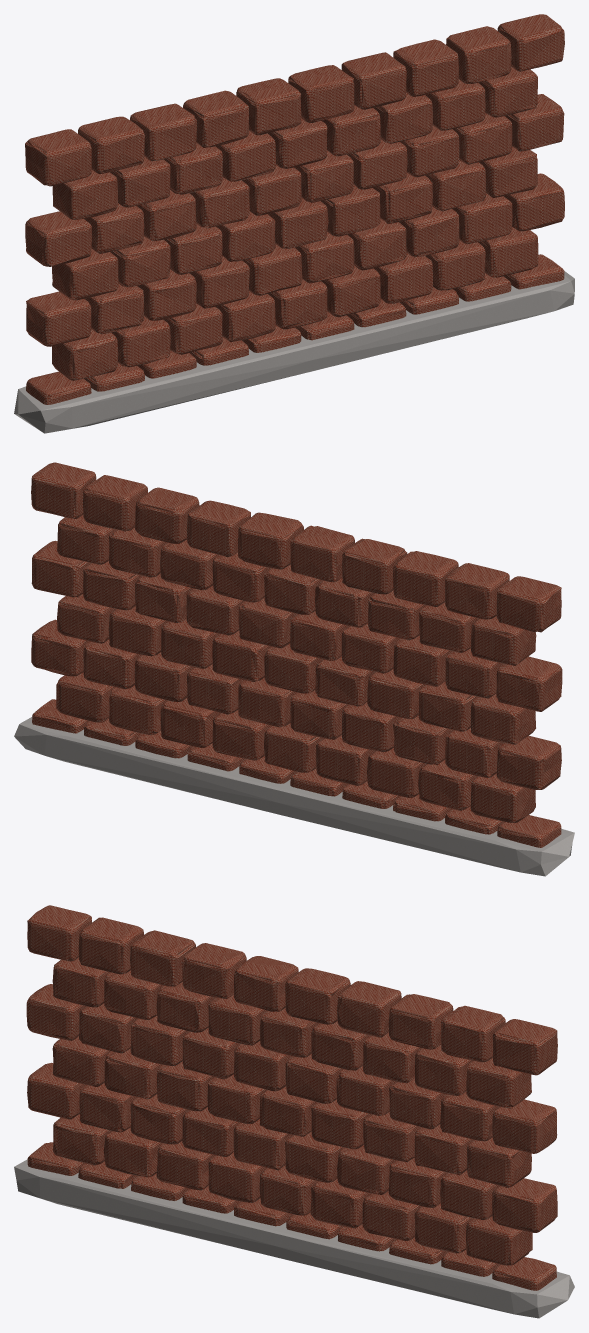
Rendered from brick_wall.glb.
The picture shows the model from 3 angles, top to bottom: view 1: azimuth 30°, elevation 25°; view 2: azimuth 150°, elevation 25°; view 3: azimuth 330°, elevation 25°; orthographic projection.
Visible parts, largest first — view 1: wall_footing, brick_057, brick_038, brick_019, brick_062, brick_058, brick_065, brick_066, brick_059, brick_064, brick_061, brick_060 (+56 smaller); view 2: wall_footing, brick_057, brick_038, brick_019, brick_062, brick_066, brick_058, brick_065, brick_064, brick_059, brick_061, brick_060 (+56 smaller); view 3: wall_footing, brick_066, brick_028, brick_047, brick_062, brick_065, brick_058, brick_059, brick_063, brick_060, brick_064, brick_057 (+56 smaller).
Part boxes in pixels (x1,y1,x2,y2): wall_footing: (14, 271, 574, 433); brick_057: (25, 129, 91, 186); brick_038: (25, 211, 91, 266); brick_019: (26, 291, 91, 346); brick_062: (288, 65, 354, 122); brick_058: (78, 116, 144, 173); brick_065: (446, 26, 511, 83); brick_066: (497, 14, 564, 71); brick_059: (130, 103, 196, 161); brick_064: (393, 39, 458, 96); brick_061: (236, 78, 301, 135); brick_060: (183, 90, 248, 147); wall_footing: (14, 717, 574, 876); brick_057: (496, 576, 561, 632); brick_038: (496, 656, 562, 711); brick_019: (496, 735, 561, 789); brick_062: (238, 512, 303, 569); brick_066: (31, 462, 96, 518); brick_058: (445, 563, 509, 619); brick_065: (83, 475, 147, 531); brick_064: (135, 487, 199, 543); brick_059: (393, 551, 458, 606); brick_061: (290, 525, 354, 582); brick_060: (342, 538, 407, 594); wall_footing: (14, 1159, 574, 1318); brick_066: (492, 1019, 557, 1075); brick_028: (492, 1178, 557, 1232); brick_047: (492, 1099, 557, 1153); brick_062: (285, 968, 350, 1024); brick_065: (441, 1005, 505, 1062); brick_058: (78, 917, 143, 974); brick_059: (130, 930, 195, 986); brick_063: (337, 981, 401, 1037); brick_060: (181, 943, 246, 998); brick_064: (388, 994, 453, 1049); brick_057: (27, 905, 91, 961).
Size of the model in its own units: 5.09 by 2.44 by 0.5611.
Materials: 2 (2 with a texture image).
